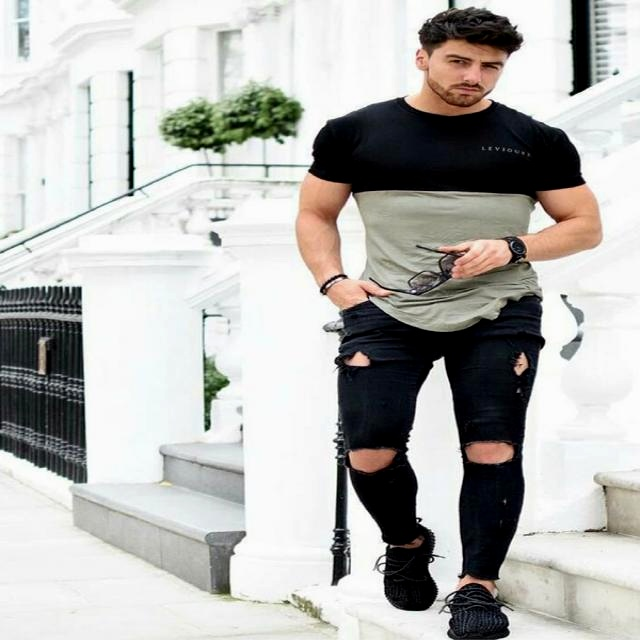ripped_pants: (330, 286, 541, 582)
